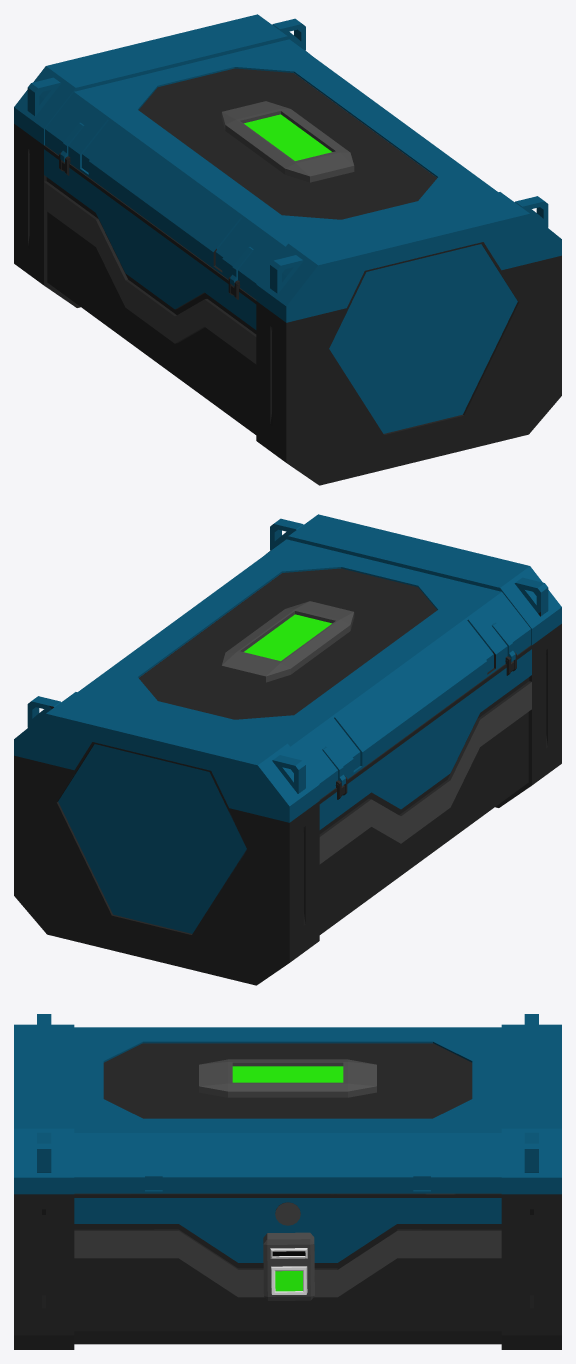
Rendered from MediumCrate.glb.
The picture shows the model from 3 angles, top to bottom: view 1: azimuth 30°, elevation 25°; view 2: azimuth 150°, elevation 25°; view 3: azimuth 270°, elevation 25°; orthographic projection.
Visible parts, largest first — view 1: MediumCrate, Greeble; view 2: MediumCrate, Greeble; view 3: MediumCrate, Greeble, KeyPad.
Part boxes in pixels (left/top/right/bottom): MediumCrate: left=14, top=14, right=561, bottom=485; Greeble: left=221, top=101, right=354, bottom=182; MediumCrate: left=14, top=514, right=561, bottom=985; Greeble: left=221, top=601, right=354, bottom=682; MediumCrate: left=14, top=1014, right=561, bottom=1349; Greeble: left=199, top=1059, right=376, bottom=1097; KeyPad: left=263, top=1232, right=314, bottom=1300.
Size of the model in its own units: 1.67 by 1.19 by 2.62.
Materials: 6 (2 with a texture image).
